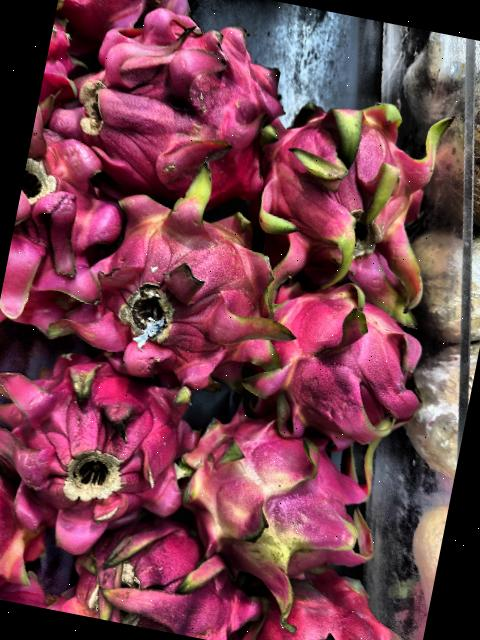buah-naga-belum-matang: (162, 394, 394, 602)
buah-naga-matang: (237, 70, 480, 321), (57, 163, 298, 408), (53, 0, 299, 212), (0, 330, 208, 545), (240, 267, 443, 459), (0, 111, 146, 357), (43, 503, 258, 640), (236, 540, 423, 640), (0, 429, 66, 606), (55, 0, 206, 42)
